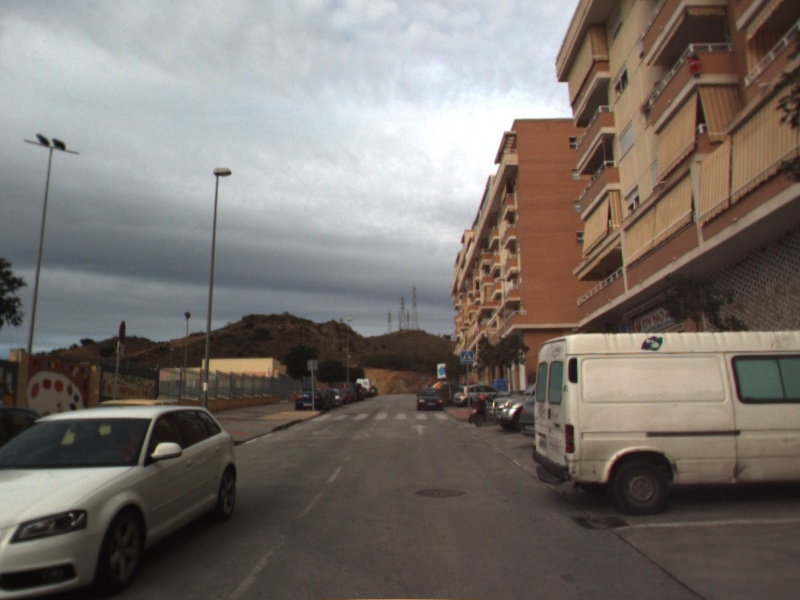STRAIGHT: (408, 421, 431, 437)
